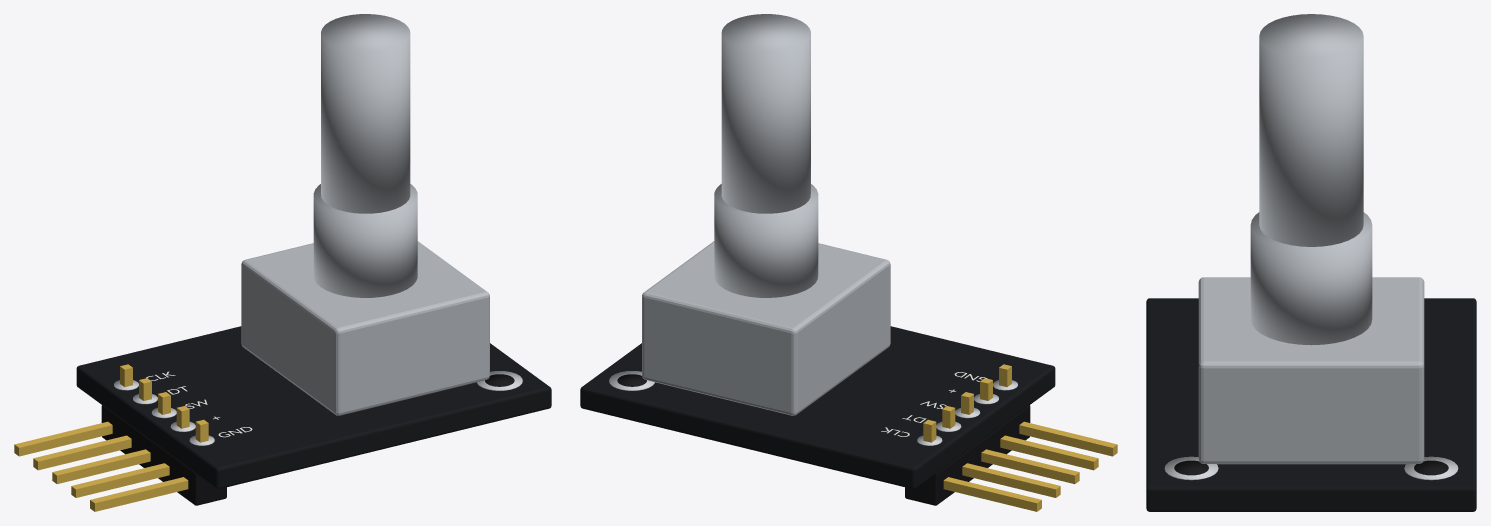
The model's file is rotary-encoder.glb.
The picture shows the model from 3 angles, left to right: view 1: azimuth 30°, elevation 25°; view 2: azimuth 150°, elevation 25°; view 3: azimuth 270°, elevation 25°; orthographic projection. The views are drawn at different scales.
Visible parts, largest first — view 1: pcb.024, part.074, part.076, part.075, header.024, pin_h.083, pin_h.084, pin_h.081, pin_h.082, pin_h.085; view 2: pcb.024, part.074, part.076, part.075, header.024, pin_h.082, pin_h.083, pin_h.081, pin_h.084, pin_h.085; view 3: part.074, pcb.024, part.076, part.075, hole_ring.039, hole_ring.040, hole.039, hole.040.
Part boxes in pixels (x1,y1,x2,y2): pcb.024: (76,326,551,489); part.074: (241,241,489,415); part.076: (321,14,410,213); part.075: (313,184,417,297); header.024: (101,405,226,505); pin_h.083: (52,449,150,484); pin_h.084: (71,463,169,497); pin_h.081: (14,421,112,456); pin_h.082: (33,435,131,470); pin_h.085: (90,477,188,511); pcb.024: (580,326,1055,489); part.074: (642,241,890,415); part.076: (721,14,810,213); part.075: (714,184,818,297); header.024: (905,405,1030,505); pin_h.082: (962,463,1060,497); pin_h.083: (981,449,1079,484); pin_h.081: (943,477,1041,511); pin_h.084: (1000,435,1098,470); pin_h.085: (1019,421,1117,456); part.074: (1198,277,1424,464); pcb.024: (1146,298,1476,511); part.076: (1259,14,1363,246); part.075: (1250,212,1372,345); hole_ring.039: (1404,456,1458,480); hole_ring.040: (1164,456,1218,480); hole.039: (1414,460,1448,475); hole.040: (1174,460,1208,475).
Size of the model in its own units: 0.0331 by 0.0286 by 0.019.
